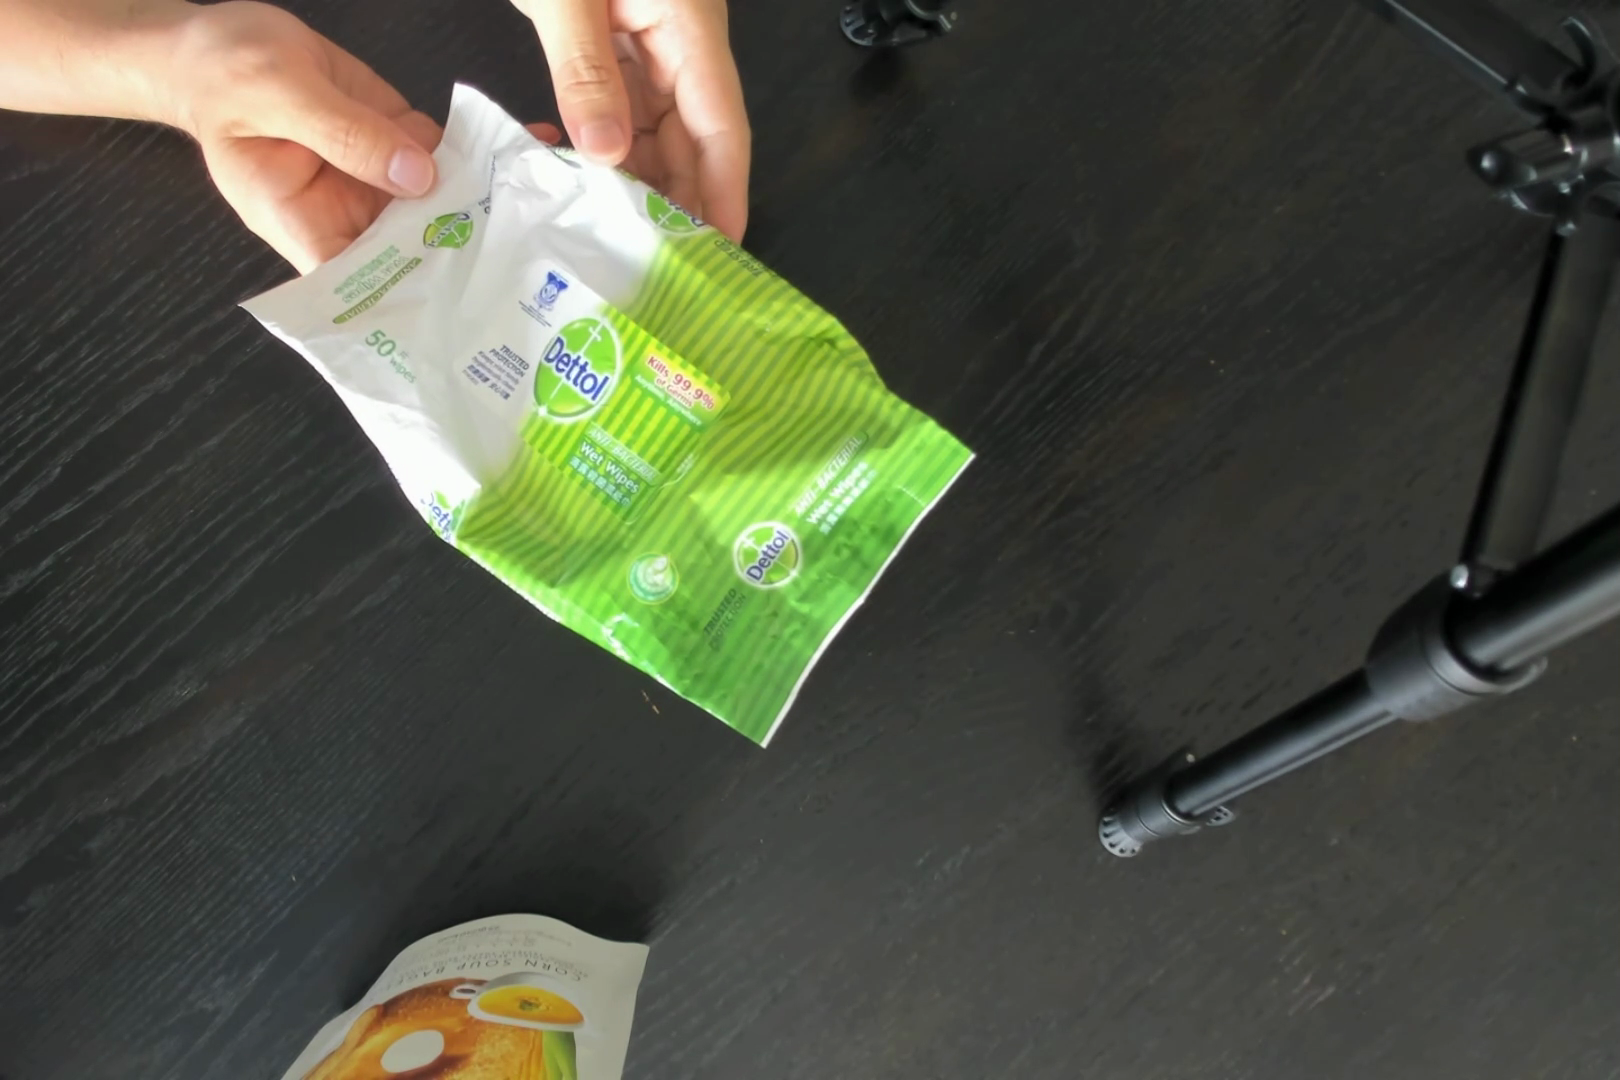WetWiper_100-199g_NonHalal_NonHealthy: (375, 121, 867, 720)
